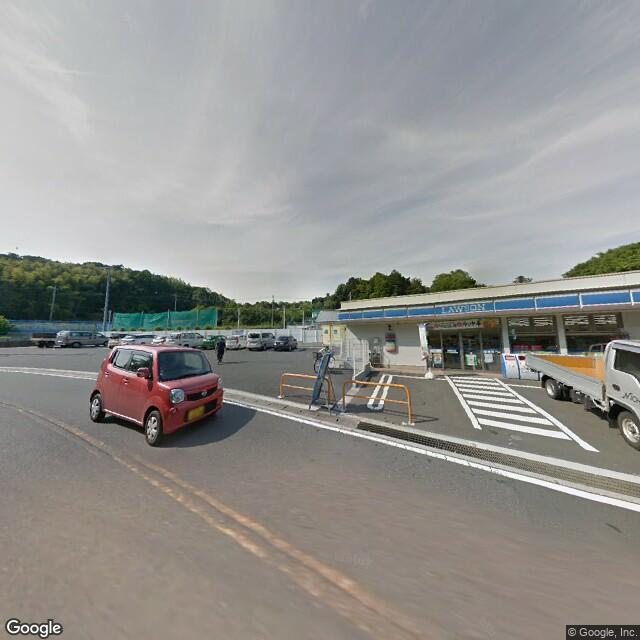lawson: (340, 278, 637, 324)
